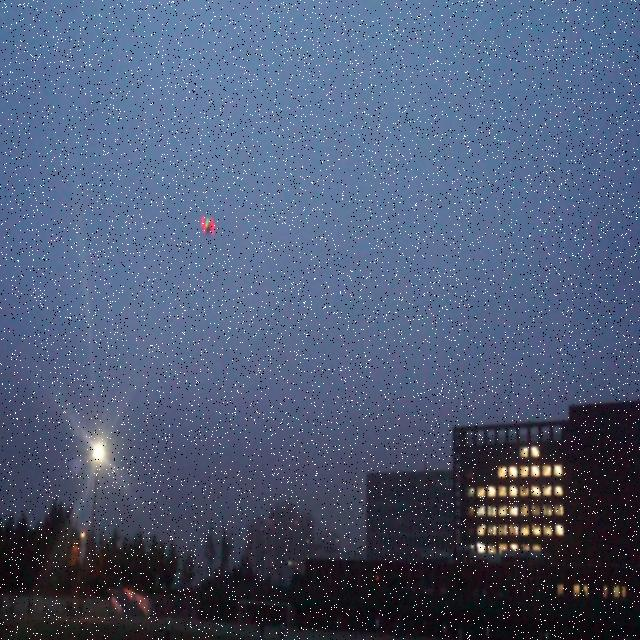UAV: (200, 216, 216, 235)
